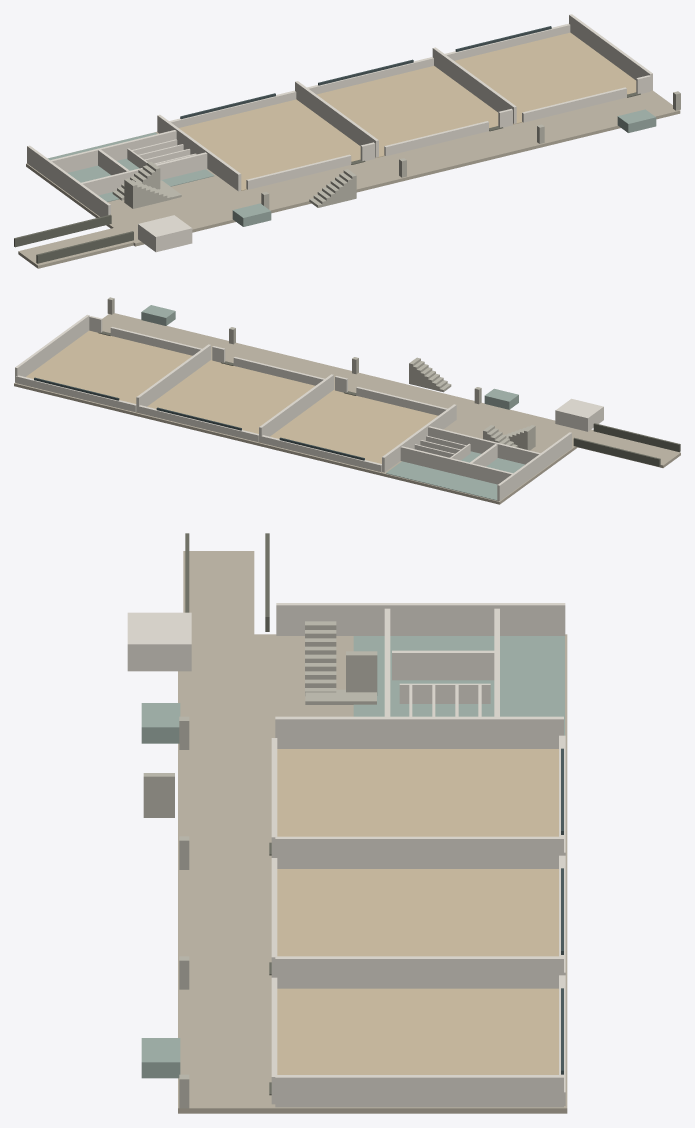
The model's file is ai-school-floor-2.glb.
The picture shows the model from 3 angles, top to bottom: view 1: azimuth 30°, elevation 25°; view 2: azimuth 150°, elevation 25°; view 3: azimuth 270°, elevation 25°; orthographic projection. The views are drawn at different scales.
Visible parts, largest first — view 1: d9c9aa, eee9df, c7bfae, c9c6b9, a9bbb3, 77786c, 4e5e61; view 2: d9c9aa, eee9df, c7bfae, a9bbb3, c9c6b9, 77786c, 4e5e61; view 3: d9c9aa, eee9df, c7bfae, a9bbb3, c9c6b9, 77786c.
Boxes of the visible parts, x1,y1,x2,y2 form: d9c9aa: (179,32,636,190); eee9df: (27,14,652,252); c7bfae: (18,90,680,268); c9c6b9: (112,91,680,209); a9bbb3: (48,109,656,226); 77786c: (14,92,640,263); 4e5e61: (180,26,551,119); d9c9aa: (26,330,437,472); eee9df: (15,314,603,500); c7bfae: (14,313,680,504); a9bbb3: (141,305,524,500); c9c6b9: (107,297,535,450); 77786c: (98,331,680,466); 4e5e61: (34,377,364,460); d9c9aa: (277,749,558,1074); eee9df: (127,603,565,1107); c7bfae: (178,551,567,1113); a9bbb3: (141,636,564,1078); c9c6b9: (143,621,377,1108); 77786c: (185,533,271,1095).
Size of the model in its own units: 41.91 by 1.65 by 13.95.
